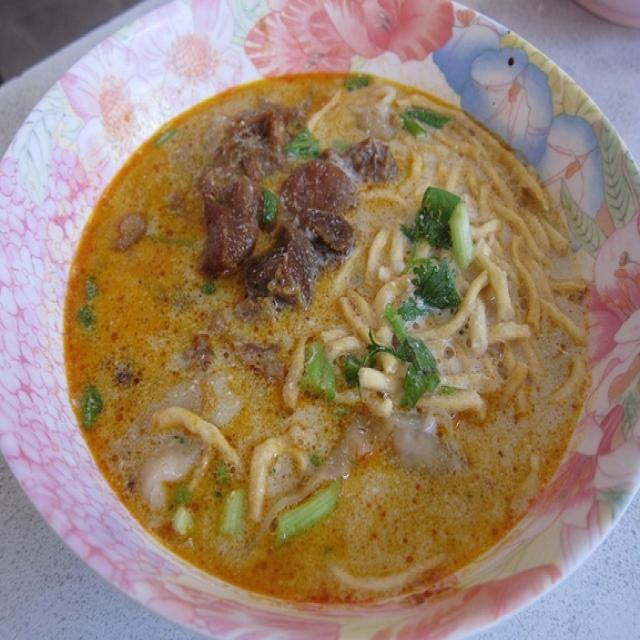面条主食: (83, 80, 579, 615)
